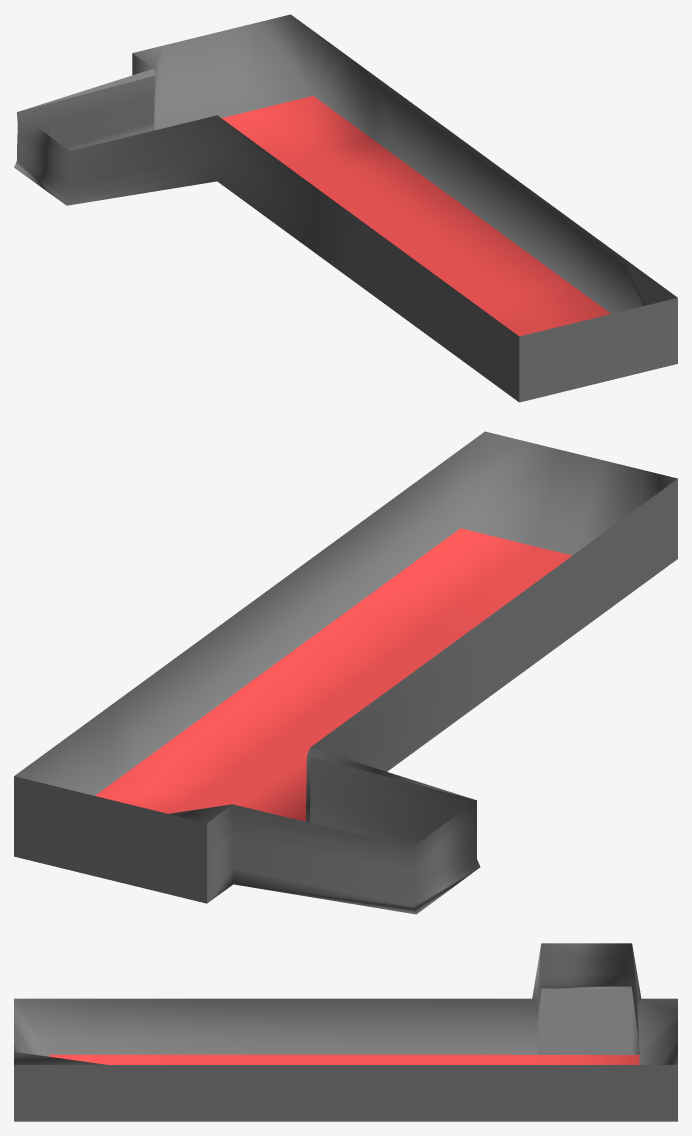
The model's file is testballs.obj.
The picture shows the model from 3 angles, top to bottom: view 1: azimuth 30°, elevation 25°; view 2: azimuth 150°, elevation 25°; view 3: azimuth 270°, elevation 25°; orthographic projection. The views are drawn at different scales.
Visible parts, largest first — view 1: pCube1; view 2: pCube1; view 3: pCube1.
Boxes of the visible parts, x1,y1,x2,y2 form: pCube1: [14, 14, 677, 402]; pCube1: [14, 431, 677, 914]; pCube1: [14, 943, 677, 1121].
Bounding box in the file's own units: 1.93 × 0.4067 × 4.25.
